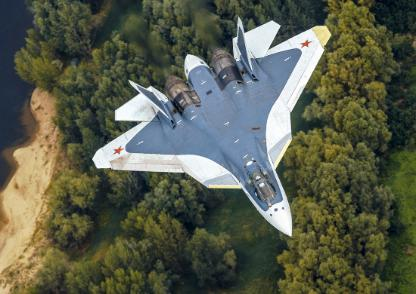SR71: (91, 16, 331, 236)
